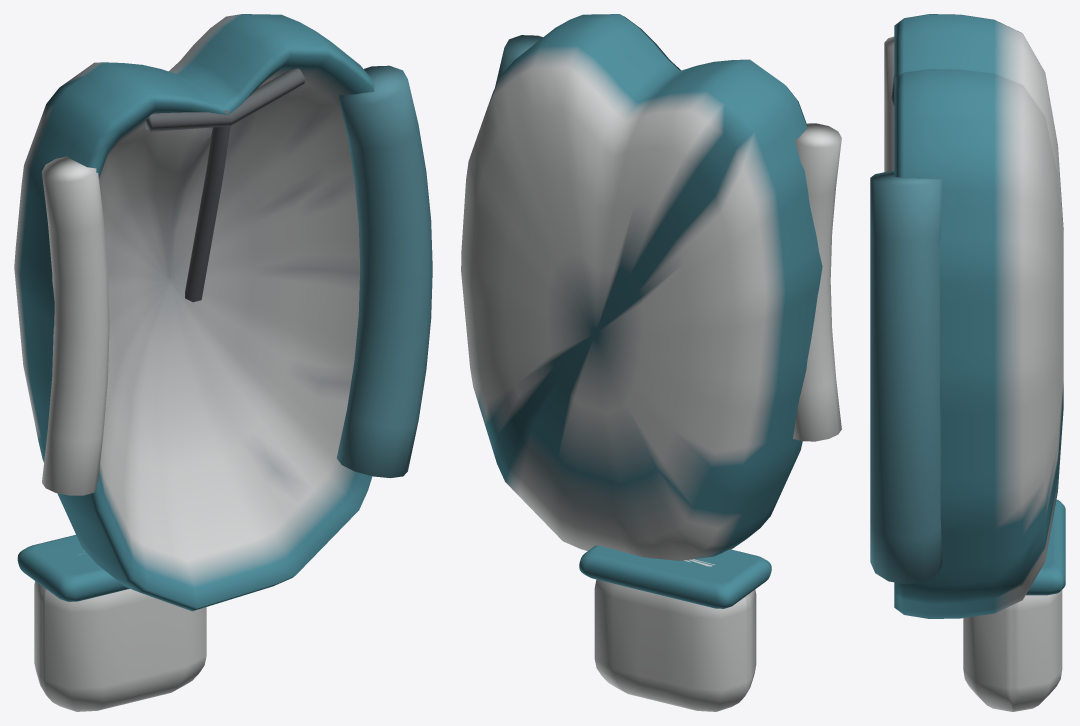
Rendered from catcher_left_hand.glb.
The picture shows the model from 3 angles, left to right: view 1: azimuth 30°, elevation 25°; view 2: azimuth 150°, elevation 25°; view 3: azimuth 270°, elevation 25°; orthographic projection. The views are drawn at different scales.
Visible parts, largest first — view 1: catcher_left_hand2; view 2: catcher_left_hand2; view 3: catcher_left_hand2.
Part boxes in pixels (x1,y1,x2,y2): catcher_left_hand2: (14,14,432,711); catcher_left_hand2: (461,14,841,711); catcher_left_hand2: (870,14,1065,711).
Bounding box in the file's own units: 0.3139 × 0.5271 × 0.1385.
